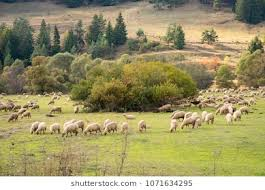sheep: (101, 121, 118, 135), (61, 123, 79, 136), (82, 123, 101, 134), (179, 117, 195, 130), (34, 121, 48, 135), (49, 121, 62, 136), (136, 119, 148, 133), (203, 112, 215, 125), (48, 104, 63, 114), (157, 103, 173, 112), (120, 120, 131, 133), (5, 113, 19, 123), (169, 118, 178, 133), (169, 111, 185, 119), (122, 112, 136, 121), (237, 107, 251, 115), (20, 110, 32, 119), (194, 118, 203, 127), (232, 111, 241, 120), (224, 113, 232, 123), (189, 100, 201, 106), (203, 102, 213, 108), (72, 105, 78, 114), (182, 102, 190, 108)
